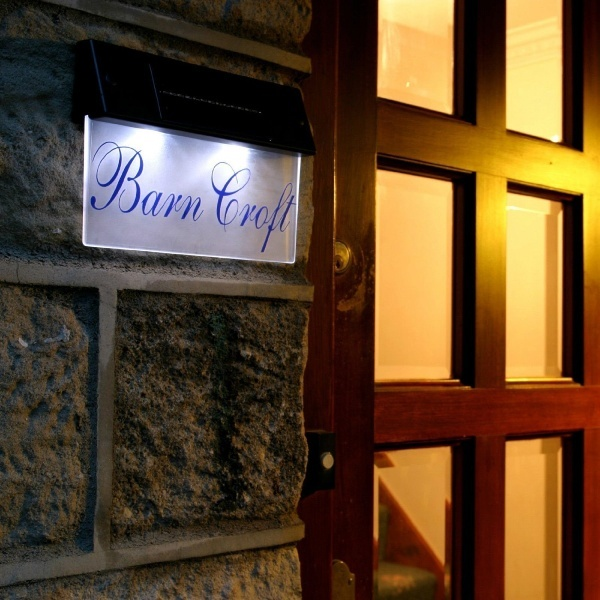text: (209, 157, 224, 259), (225, 157, 240, 259), (241, 157, 256, 259), (257, 157, 272, 259), (273, 157, 288, 259), (97, 137, 112, 224), (113, 137, 128, 224), (129, 137, 144, 224), (145, 137, 160, 224), (161, 137, 176, 224), (177, 137, 192, 224), (193, 137, 206, 224), (289, 157, 299, 259), (205, 157, 208, 259), (94, 137, 96, 224)
